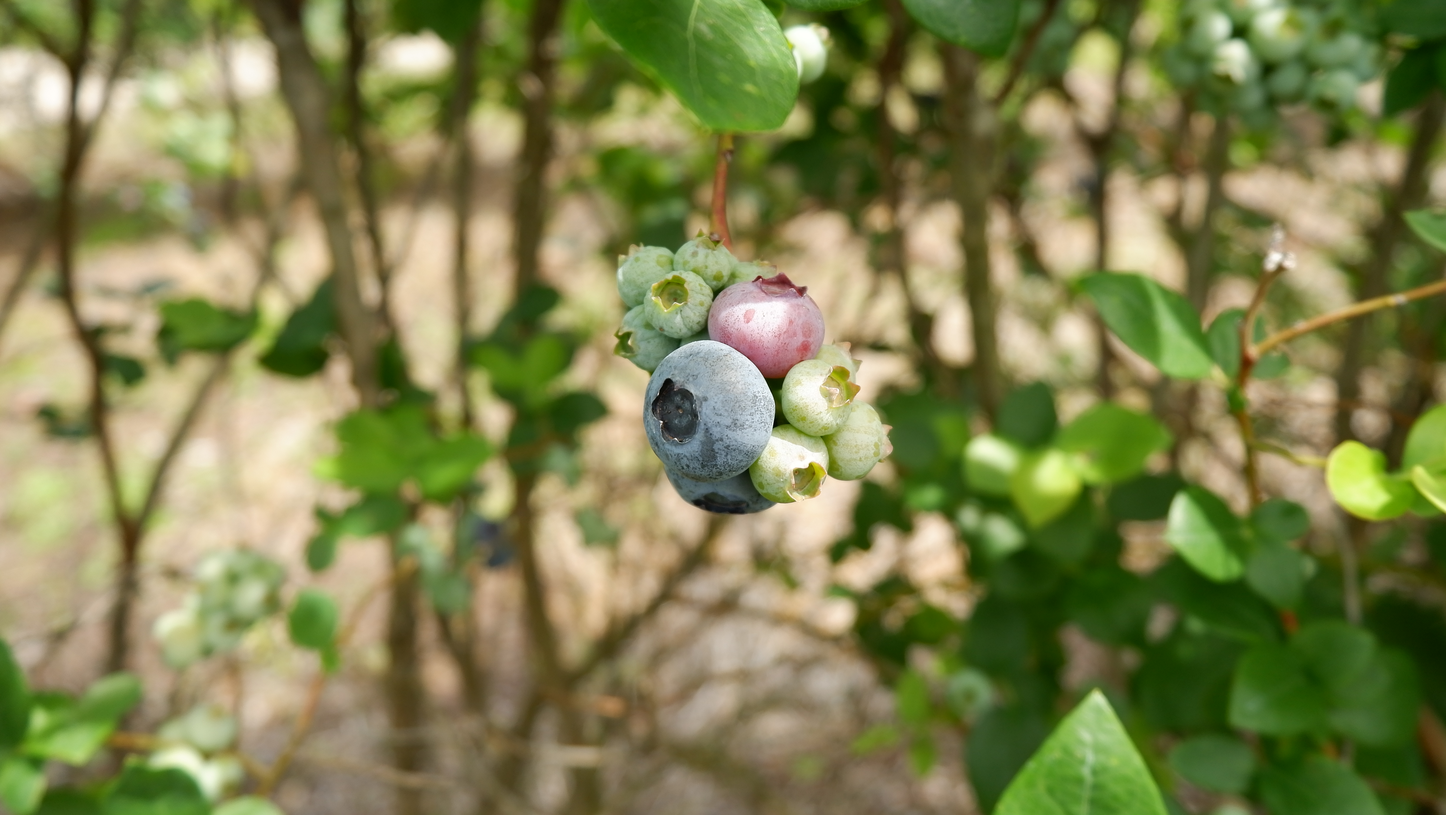Immature: (708, 273, 826, 379), (749, 424, 830, 503), (781, 360, 861, 436), (820, 399, 893, 480), (643, 270, 713, 338), (612, 304, 682, 371), (616, 242, 676, 308), (673, 231, 734, 291), (811, 341, 862, 385), (723, 259, 777, 290), (680, 322, 711, 348)
Mature: (642, 342, 774, 483), (662, 464, 777, 517)
